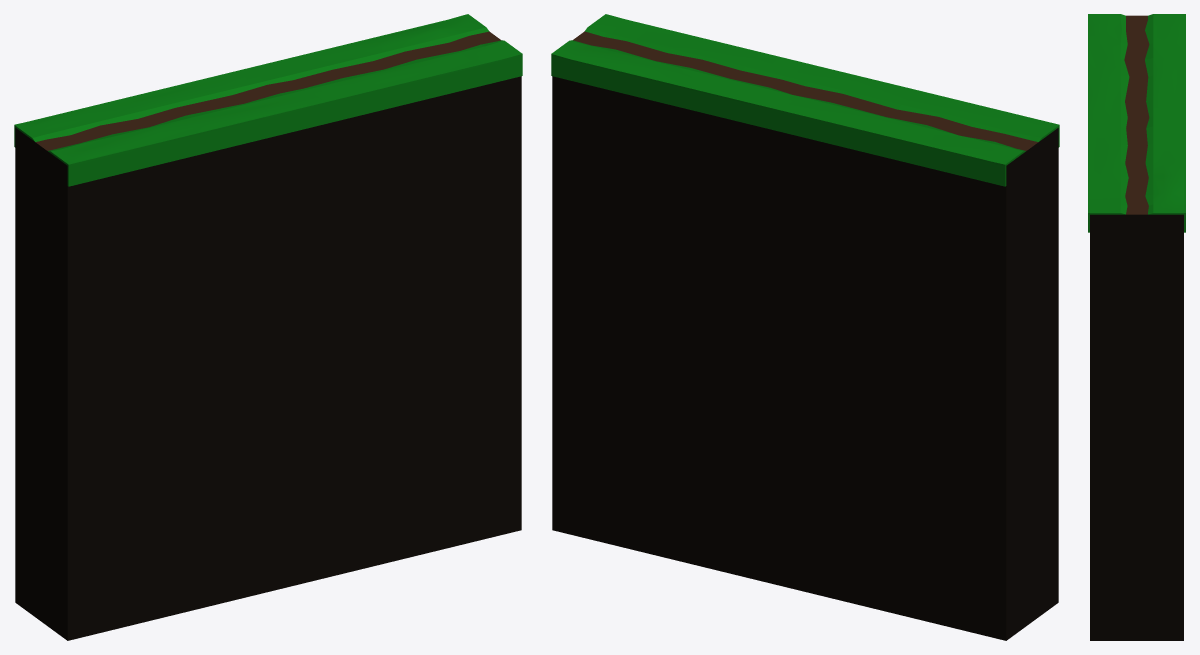
The model's file is blockFlat03.fbx.
The picture shows the model from 3 angles, left to right: view 1: azimuth 30°, elevation 25°; view 2: azimuth 150°, elevation 25°; view 3: azimuth 270°, elevation 25°; orthographic projection. The views are drawn at different scales.
Visible parts, largest first — view 1: Box001; view 2: Box001; view 3: Box001.
Part boxes in pixels (left/top/right/bottom): Box001: left=14, top=14, right=522, bottom=640; Box001: left=551, top=14, right=1059, bottom=640; Box001: left=1088, top=14, right=1185, bottom=640.
Size of the model in its own units: 50 by 10.41 by 50.47.
